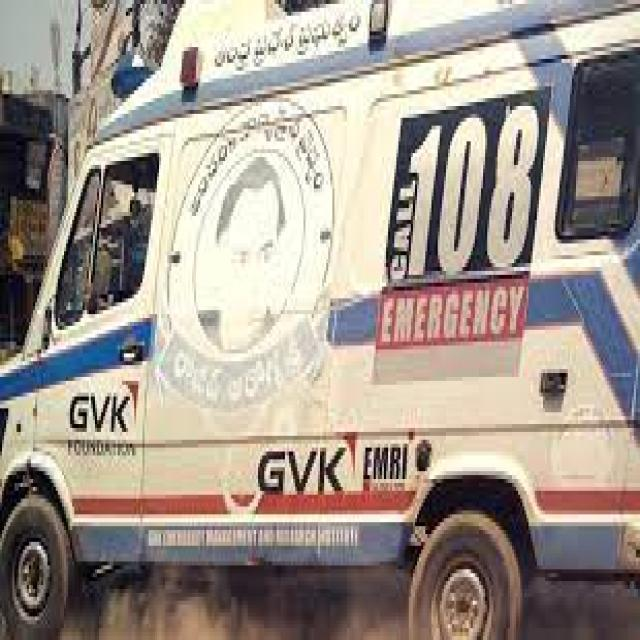ambulance: (2, 9, 636, 640)
